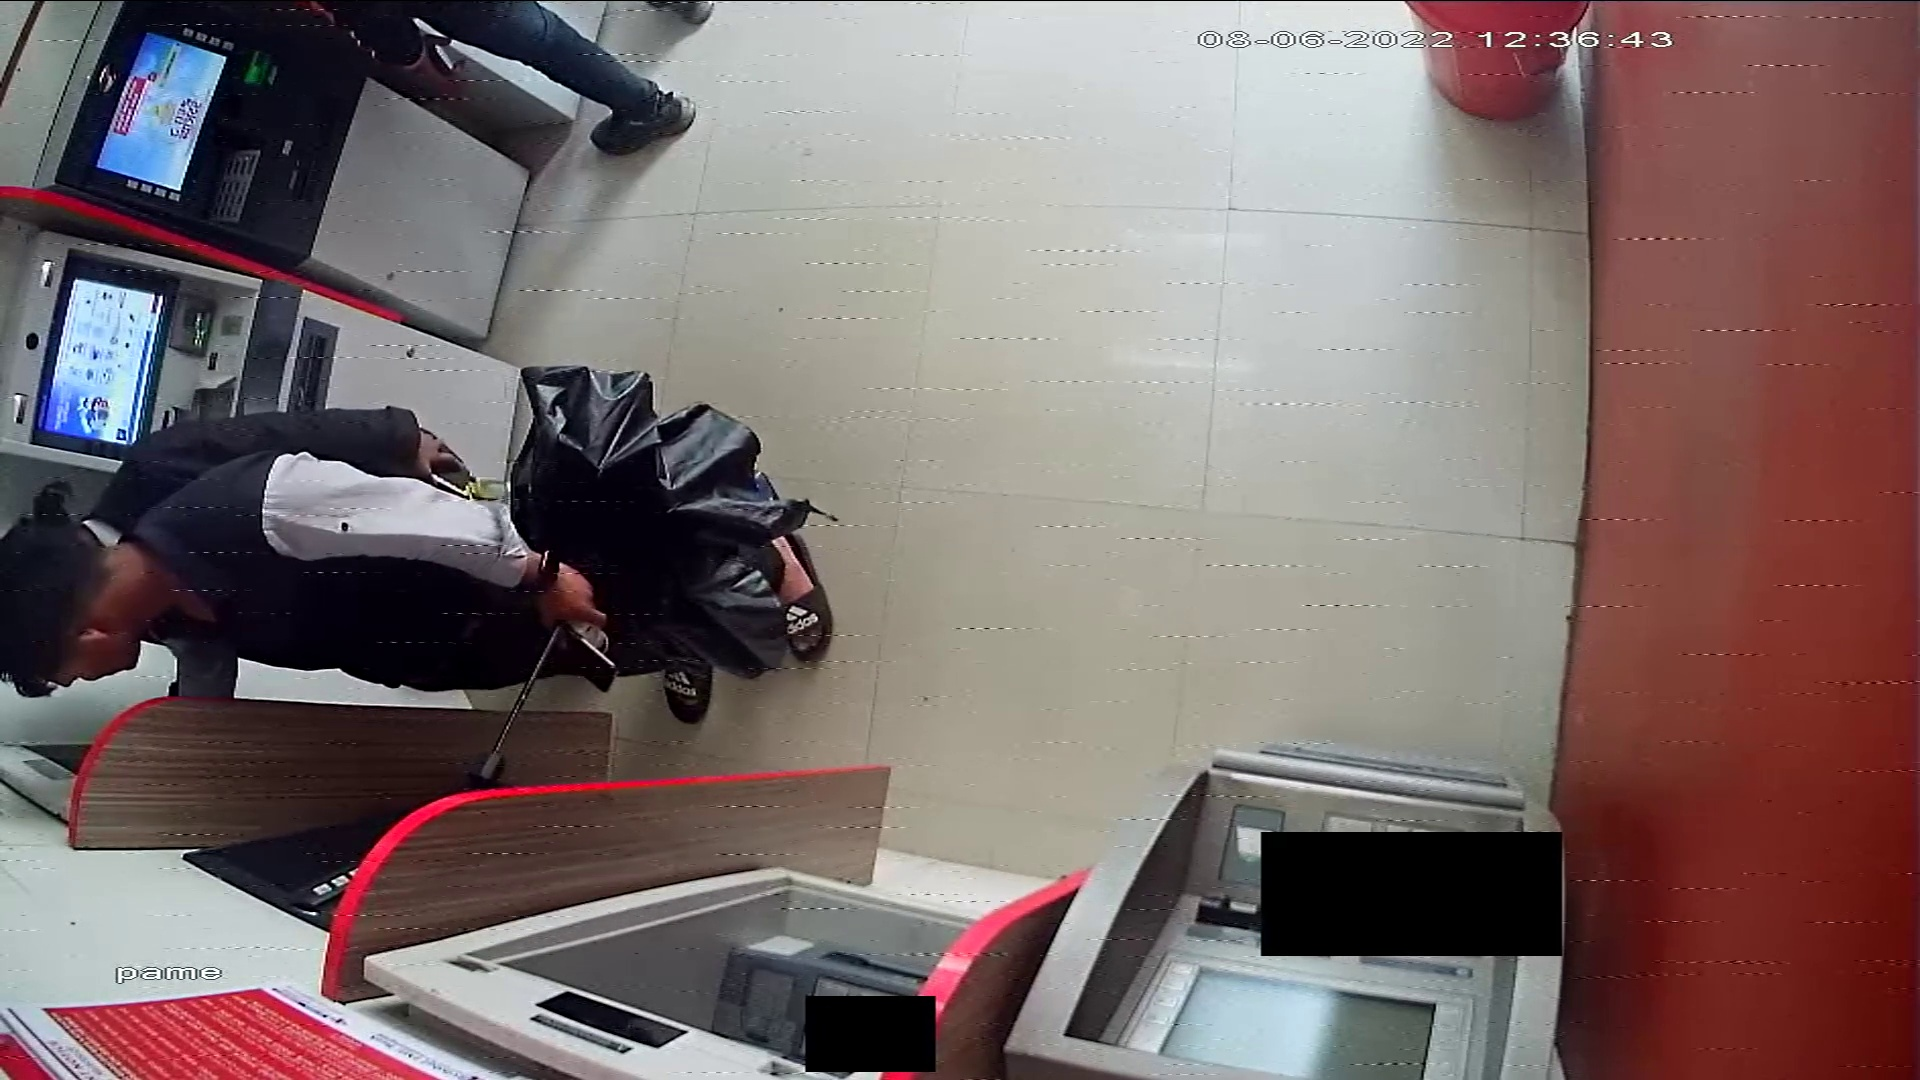person: (1, 449, 839, 728), (384, 1, 716, 153)
